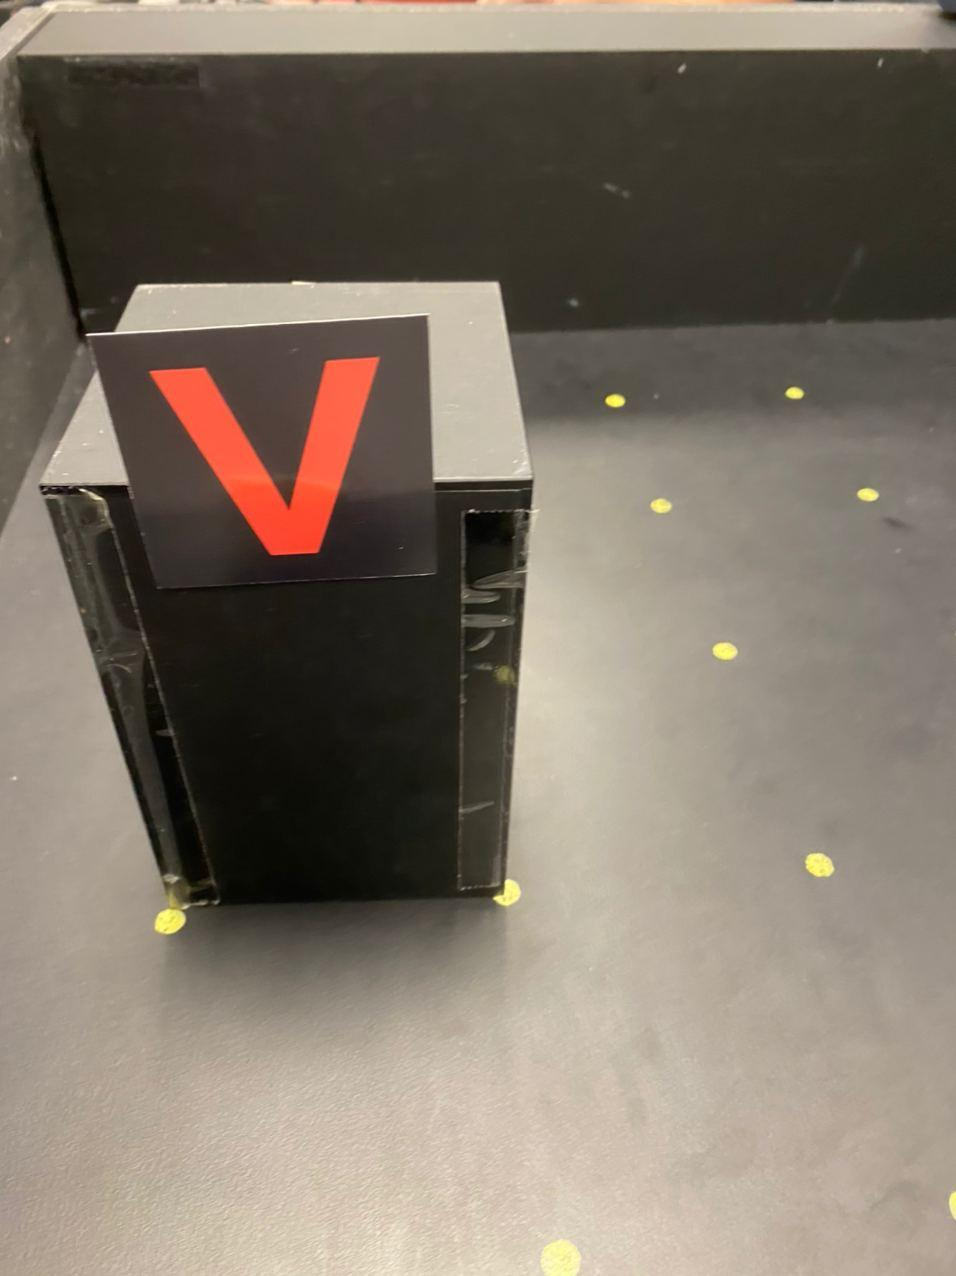v: (141, 349, 394, 572)
